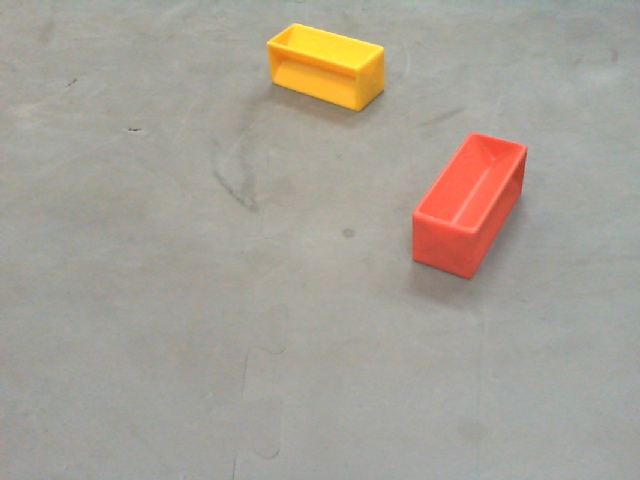RedSample: (409, 129, 530, 283)
YellowSample: (266, 20, 387, 114)
